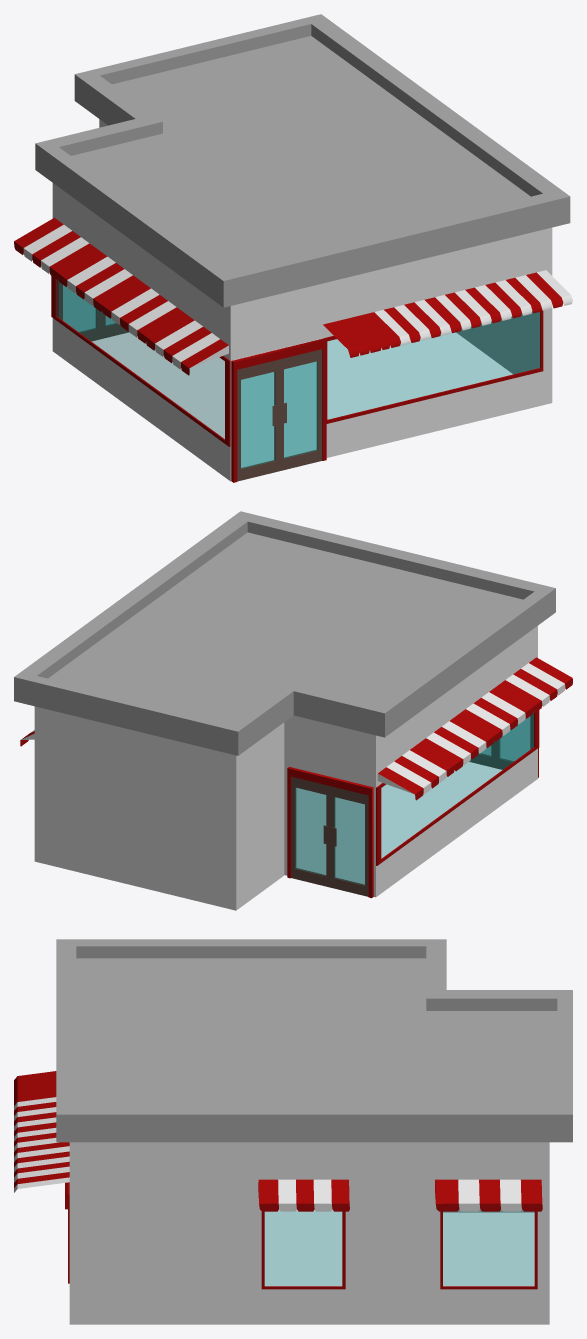
The model's file is Building_Cafe_Mod_02.fbx.
3 renders of one model, top to bottom at view 1: azimuth 30°, elevation 25°; view 2: azimuth 150°, elevation 25°; view 3: azimuth 270°, elevation 25°, orthographic. The views are drawn at different scales.
Parts seen in each view (by area): view 1: Building14, Shade5, Shade4, Door18, Door19, Door20; view 2: Building14, Shade5, Door20, Door21, Door19; view 3: Building14, Shade4, Shade7, Shade6.
Part boxes in pixels (<box>): Building14: <box>35,14,570,482</box>; Shade5: <box>14,218,228,375</box>; Shade4: <box>323,270,572,357</box>; Door18: <box>279,349,322,470</box>; Door19: <box>237,359,279,481</box>; Door20: <box>57,279,101,341</box>; Building14: <box>14,511,555,910</box>; Shade5: <box>377,657,572,800</box>; Door20: <box>330,786,368,896</box>; Door21: <box>291,776,329,887</box>; Door19: <box>495,712,533,769</box>; Building14: <box>56,939,572,1324</box>; Shade4: <box>14,1071,69,1192</box>; Shade7: <box>435,1179,542,1211</box>; Shade6: <box>258,1179,349,1211</box>.
Size of the model in its own units: 7.62 by 3.97 by 9.31.
